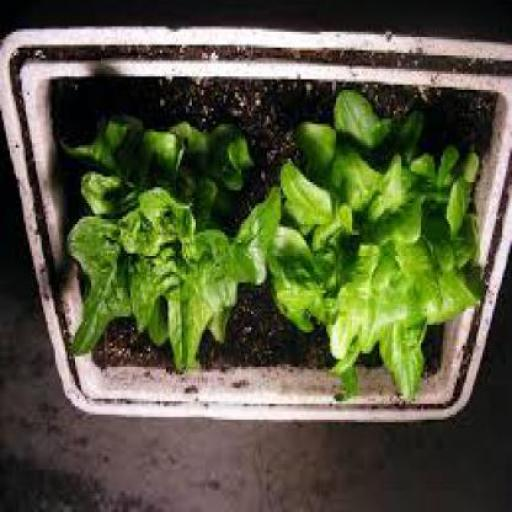biodegradable: (267, 96, 483, 400), (57, 116, 279, 375)
